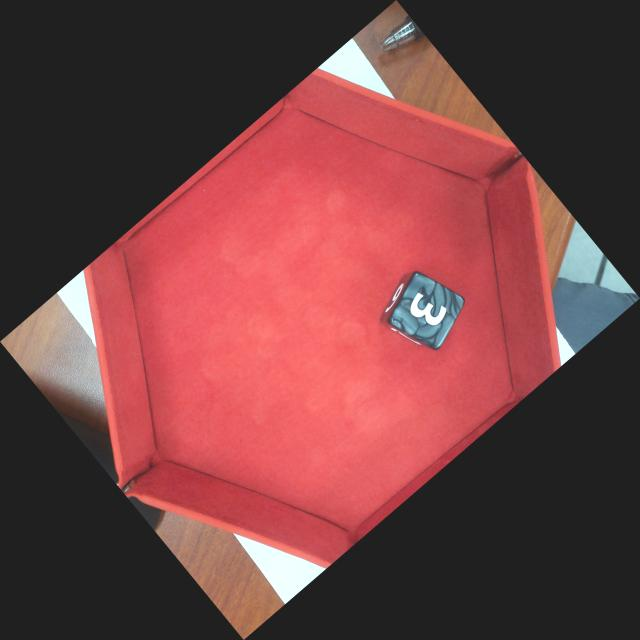dice: (389, 269, 465, 347)
